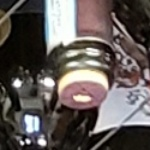bottle: (36, 33, 133, 121)
